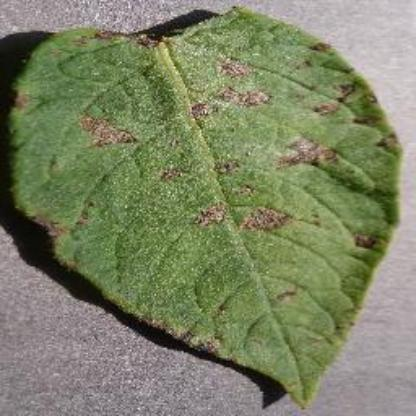Early-Blight: (6, 6, 398, 406)
